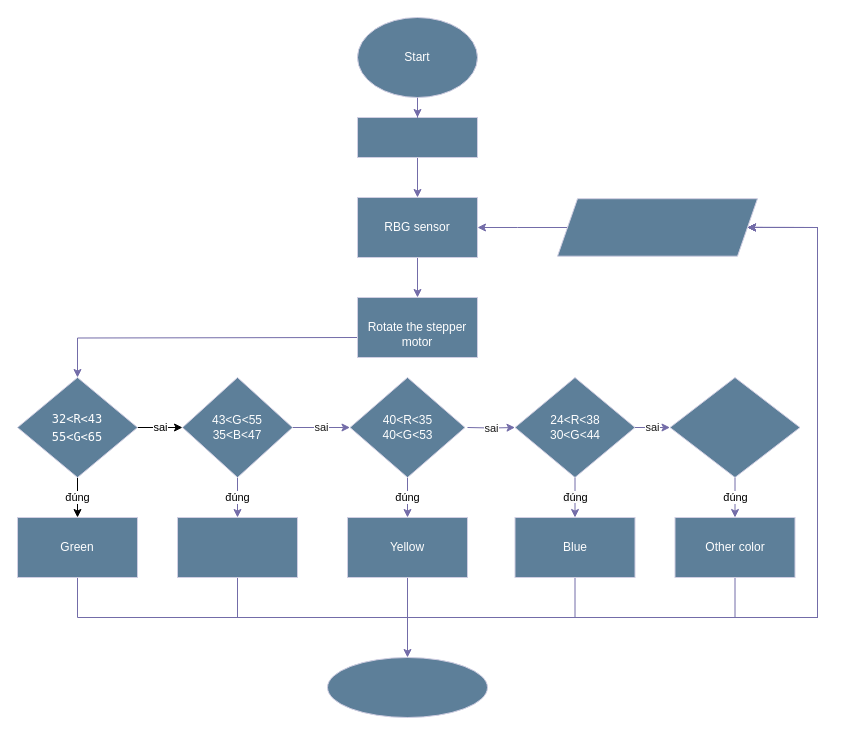
Some shapes in this 843 by 735 pixel diagram are drawn without their labels. The shapes that lost their labels are listed below. From the top down, each one's box as (x1, y1, x2, y2) in pixels, then its label:
(356, 116, 478, 158): Setup
(556, 198, 758, 256): displayed on the screen
(669, 376, 800, 478): 45<G<58 26<B<40
(176, 516, 298, 578): Red
(326, 656, 488, 718): End
